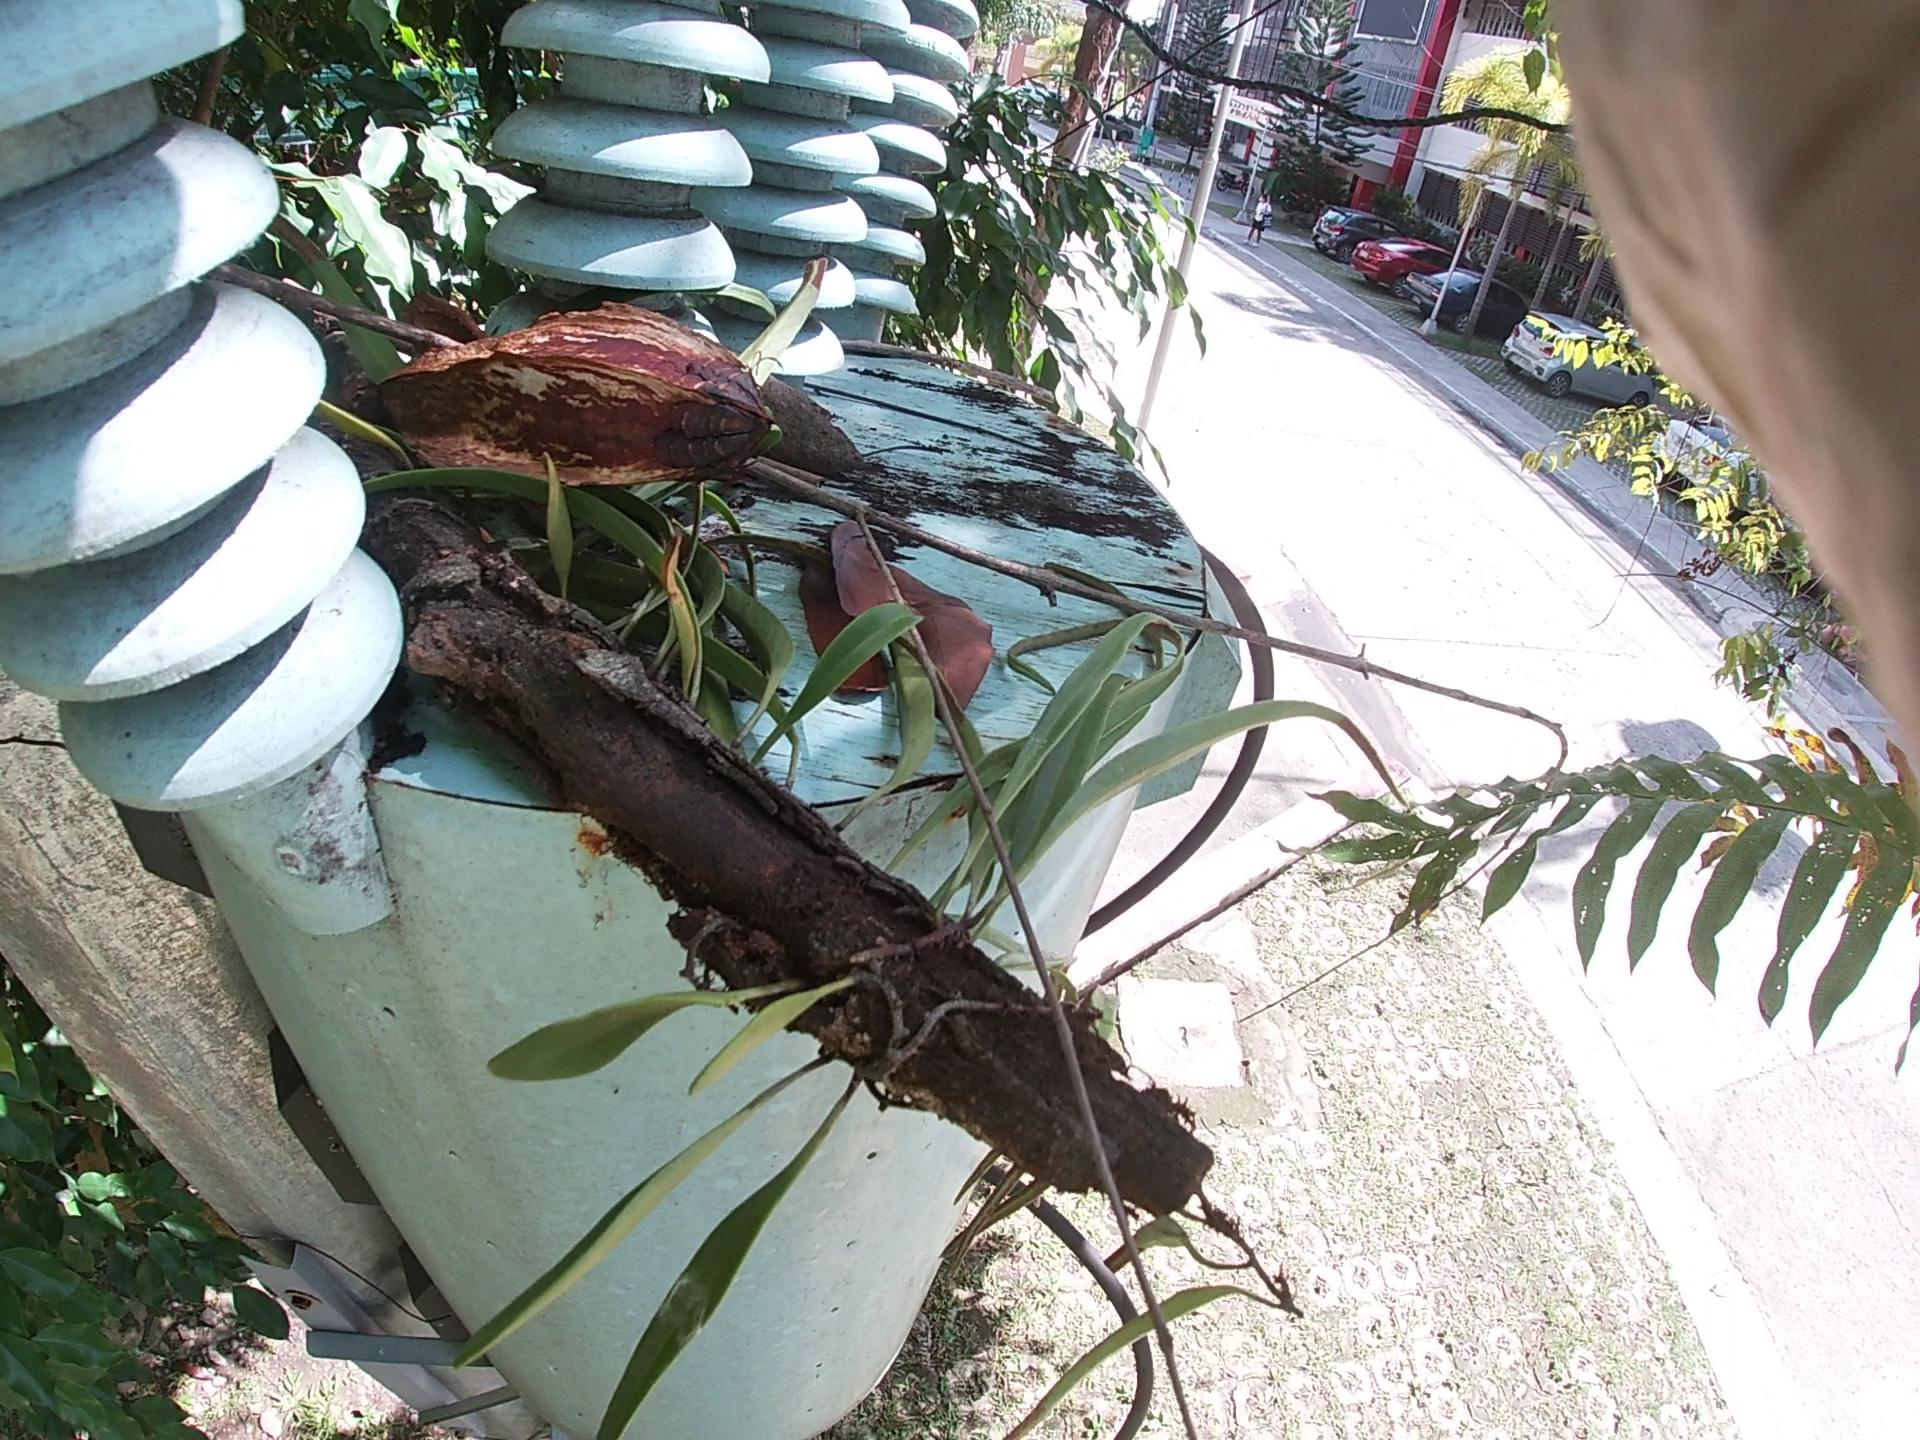branch with leaves: (382, 266, 1364, 1251)
leaf: (757, 479, 1082, 809)
mahogany fruit: (325, 275, 791, 573), (643, 200, 954, 545)
tree branch: (623, 257, 1528, 812), (801, 286, 1138, 405)
